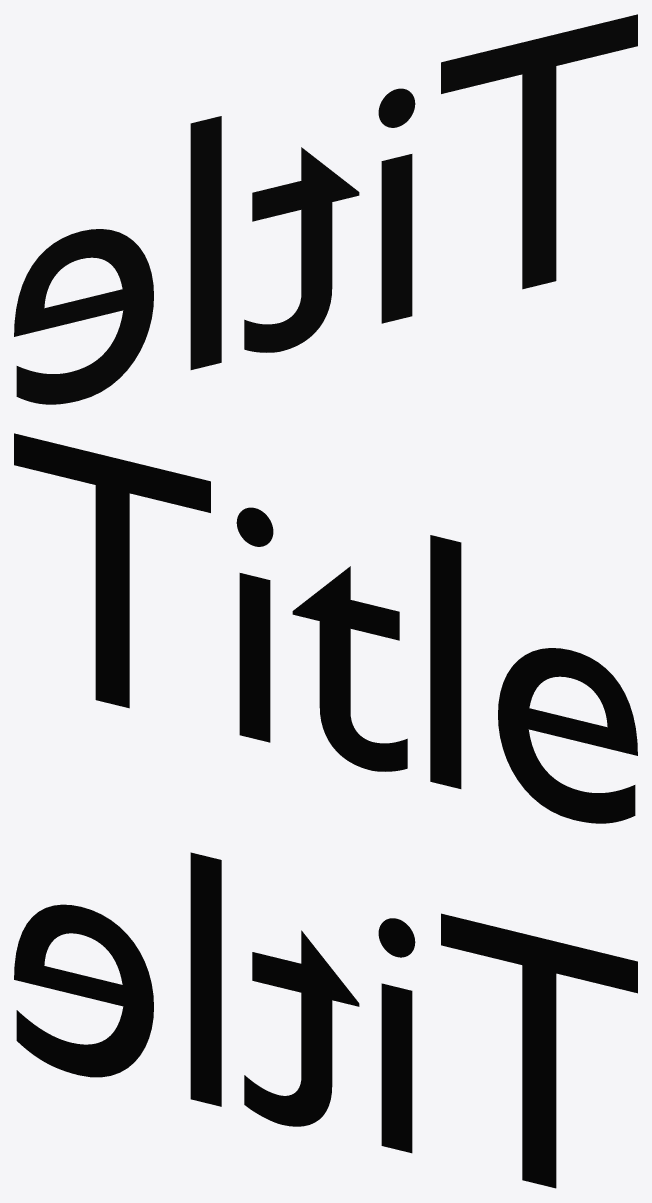
The model's file is titleFont.obj.
3 renders of one model, top to bottom at view 1: azimuth 30°, elevation 25°; view 2: azimuth 150°, elevation 25°; view 3: azimuth 330°, elevation 25°, orthographic.
Parts seen in each view (by area): view 1: テキスト.002; view 2: テキスト.002; view 3: テキスト.002.
Boxes of the visible parts, x1=… form: テキスト.002: x1=14, y1=14, x2=637, y2=404; テキスト.002: x1=14, y1=433, x2=637, y2=823; テキスト.002: x1=14, y1=852, x2=637, y2=1188.
Size of the model in its own units: 9.02 by 3.46 by 0.
